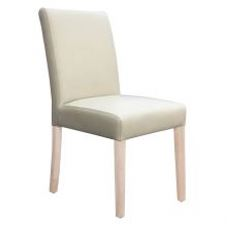chair: (23, 4, 193, 226)
